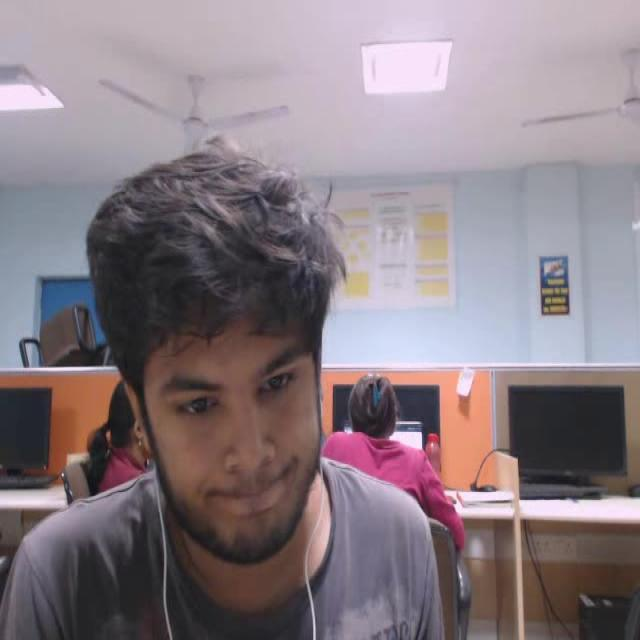Bored: (70, 127, 370, 600)
